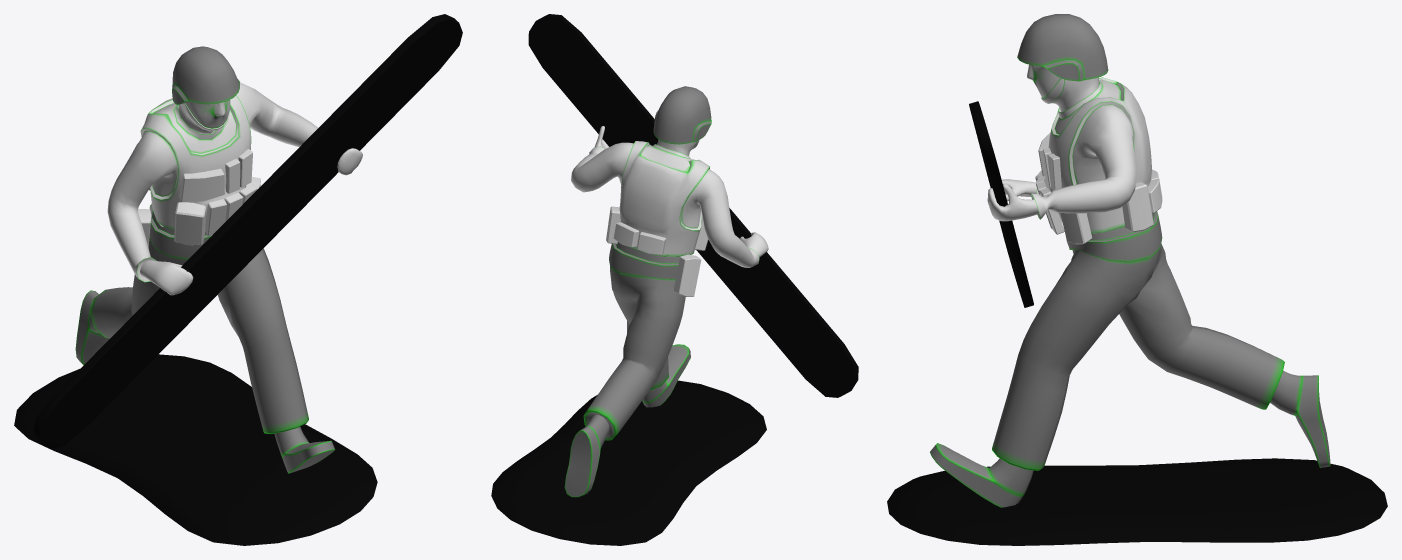
The model's file is Melee_Enemy_02_MSH.fbx.
3 renders of one model, left to right at view 1: azimuth 30°, elevation 25°; view 2: azimuth 150°, elevation 25°; view 3: azimuth 270°, elevation 25°, orthographic. The views are drawn at different scales.
Visible parts, largest first — view 1: Melee_Enemy_02; view 2: Melee_Enemy_02; view 3: Melee_Enemy_02.
Boxes of the visible parts, left/top/right/bottom form: Melee_Enemy_02: left=14, top=14, right=462, bottom=545; Melee_Enemy_02: left=491, top=14, right=858, bottom=545; Melee_Enemy_02: left=887, top=14, right=1387, bottom=545.
Bounding box in the file's own units: 186 × 198 × 180.
